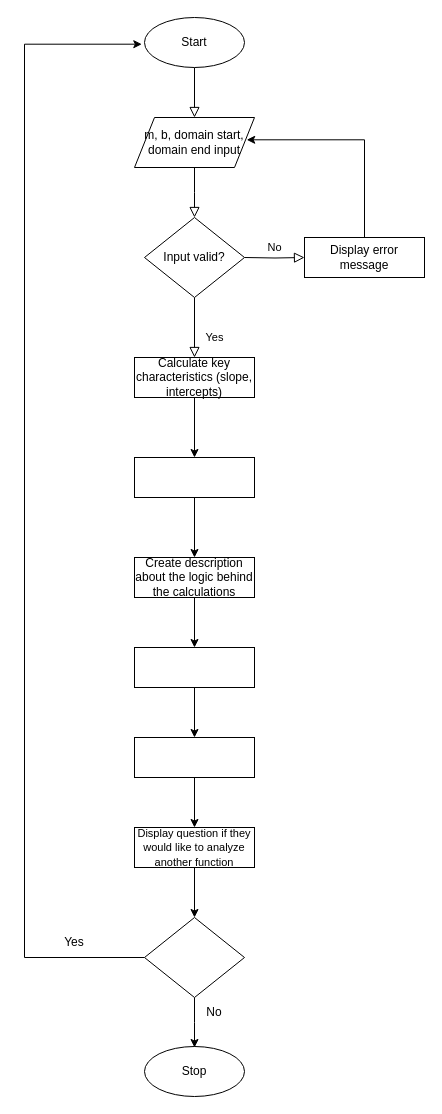
Some shapes in this 442 by 1114 pixel diagram are drawn without their labels. The shapes that lost their labels are listed below. From the top down, each one's centre as x and y in pixels, then its label:
At (194,477): "Create graph".
At (194,667): "Calculate function properties".
At (194,757): "Display graph, description and properties".
At (194,957): "Another?".
